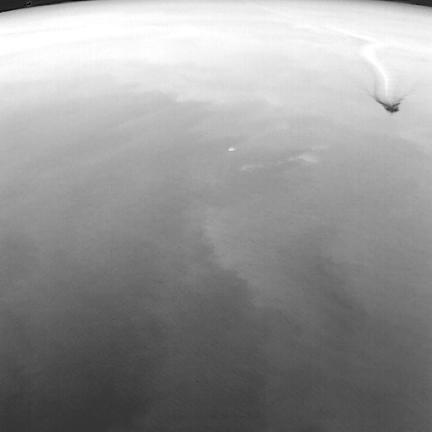flukeprints: (229, 147, 236, 151)
